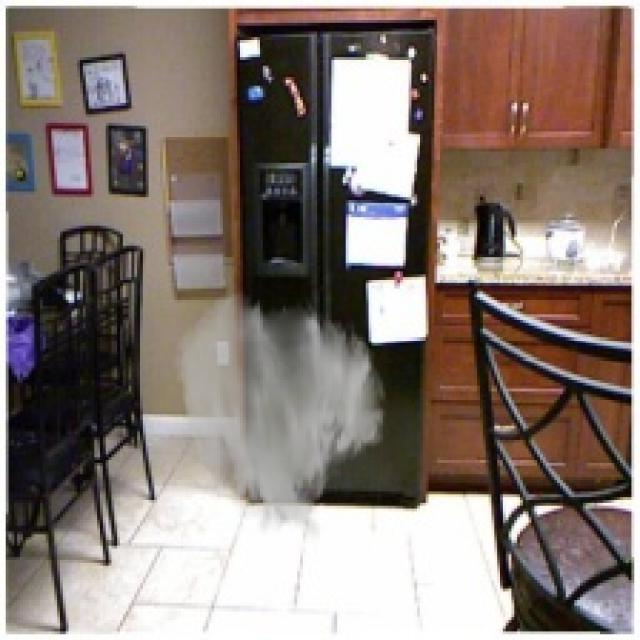smoke: (174, 288, 389, 543)
